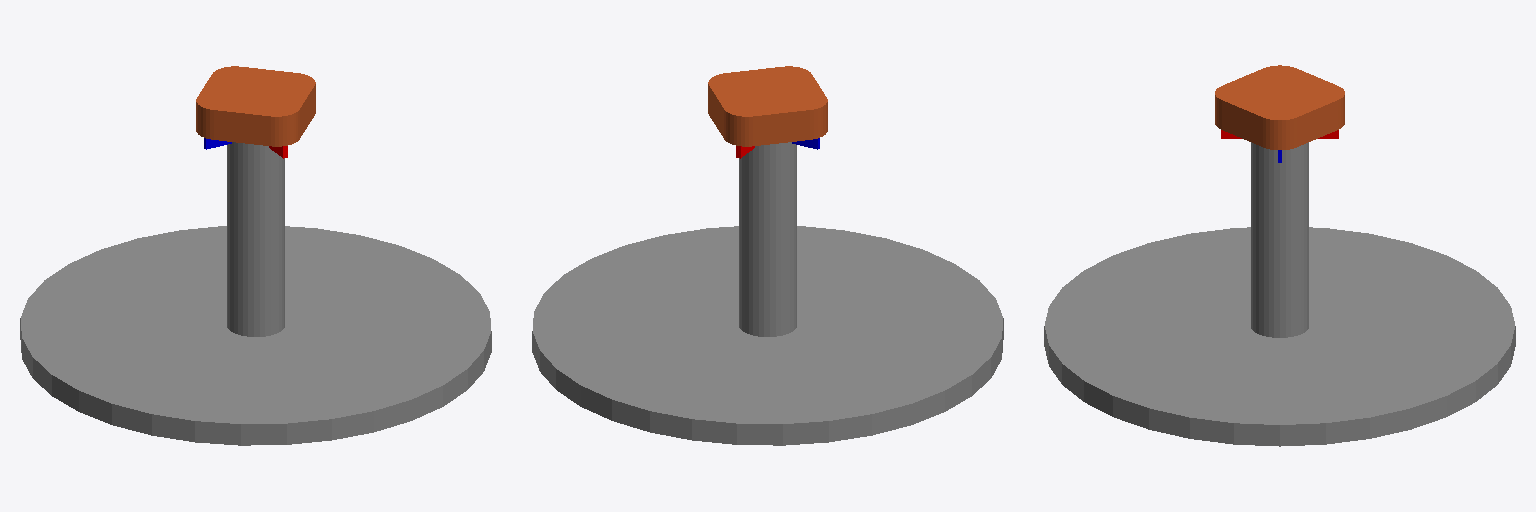
robot.urdf — screw_with_box_nut:
<?xml version="1.0"?>
<robot name="screw_with_box_nut">
  <!-- Base: Wide cylinder with hole -->
  <link name="base">
    <visual>
      <origin xyz="0 0 0" />
      <geometry>
        <cylinder radius="0.1" length="0.01" />
      </geometry>
      <material name="base_material">
        <color rgba="0.6 0.6 0.6 1" />
      </material>
    </visual>
    <collision>
      <origin xyz="0 0 0" />
      <geometry>
        <cylinder radius="0.1" length="0.01" />
      </geometry>
    </collision>
    <inertial>
      <mass value="10.0" />
      <origin xyz="0 0 0" />
      <inertia ixx="0.02508" ixy="0.0" ixz="0.0" iyy="0.02508" iyz="0.0" izz="0.05" />
    </inertial>
  </link>

  <!-- Bolt rigidly attached to base -->
  <link name="bolt">
    <visual>
      <origin xyz="0 0 0.05" />
      <geometry>
        <cylinder radius="0.0125" length="0.1" />
      </geometry>
      <material name="bolt_material">
        <color rgba="0.6 0.6 0.6 1" />
      </material>
    </visual>
    <collision>
      <origin xyz="0 0 0.05" />
      <geometry>
        <cylinder radius="0.0125" length="0.1" />
      </geometry>
    </collision>
    <inertial>
      <mass value="0.05" />
      <origin xyz="0 0 0.05" />
      <inertia ixx="0.0000420" ixy="0.0" ixz="0.0" iyy="0.0000420" iyz="0.0" izz="0.000000625" />
    </inertial>
  </link>

  <!-- Nut: a box that will rotate around the screw -->
  <link name="nut">
    <visual>
      <origin xyz="0 0 0"/>
      <geometry>
        <mesh filename="../meshes/box.stl"/>
      </geometry>
      <material name="nut_material">
        <color rgba="0.8 0.4 0.2 1"/>
      </material>
    </visual>
    <collision>
      <origin xyz="0 0 0"/>
      <geometry>
        <mesh filename="../meshes/box.stl"/>
      </geometry>
    </collision>
    <inertial>
      <mass value="0.05"/>
      <origin xyz="0 0 0"/>
      <inertia ixx="0.000004727" iyy="0.000004727" izz="0.000006453" ixy="0" ixz="0" iyz="0"/>
    </inertial>
    <!-- Red stripe on nut -->
    <visual>
      <origin xyz="0 0 0" rpy="0 0 0"/>
      <geometry>
        <!-- thin box wrapping around the cylinder -->
        <box size="0.002 0.05 0.014"/>
      </geometry>
      <material name="stripe_red">
        <color rgba="1 0 0 1"/>
      </material>
    </visual>

    <!-- Blue stripe on nut -->
    <visual>
      <origin xyz="0 0 0" rpy="0 0 1.5708"/>
      <geometry>
        <box size="0.002 0.05 0.014"/>
      </geometry>
      <material name="stripe_blue">
        <color rgba="0 0 1 1"/>
      </material>
    </visual>
  </link>

  <!-- Fixed joint -->
  <joint name="base_screw_fixed" type="fixed">
    <parent link="base" />
    <child  link="bolt" />
    <origin xyz="0 0 0" rpy="0 0 0" />
  </joint>

  <!-- Revolute joint -->
  <joint name="nut_joint" type="revolute">
    <parent link="bolt" />
    <child  link="nut" />
    <origin xyz="0 0 0.1" rpy="0 0 0"/>
    <axis  xyz="0 0 -1" />
    <dynamics friction="0.2"/>
    <limit lower="0.0" upper="628.3185" effort="2.0" velocity="6.2832" /> <!-- 100 rotations -->
  </joint>
</robot> 

--- Facts derived from the render (not from the file) ---
3 views of the same robot in one strip: view 1: azimuth 30°, elevation 25°; view 2: azimuth 150°, elevation 25°; view 3: azimuth 270°, elevation 25° (orthographic).
Robot: screw_with_box_nut — 3 links, 2 joints (1 revolute, 1 fixed); root link base; default pose: every joint at zero.
Visible links, largest first — view 1: base, bolt, nut; view 2: base, bolt, nut; view 3: base, bolt, nut.
Boxes of the visible links, box(x1,y1,x2,y2) form: base: box(20, 226, 491, 445); bolt: box(227, 142, 284, 336); nut: box(196, 66, 315, 158); base: box(532, 226, 1003, 445); bolt: box(739, 142, 796, 336); nut: box(708, 66, 827, 158); base: box(1044, 227, 1515, 446); bolt: box(1251, 142, 1308, 337); nut: box(1215, 65, 1344, 162).
Bounding box of the posed robot: 0.2 × 0.2 × 0.119 m (x, y, z).
1 mesh visuals loaded from 1 distinct referenced files (1 binary STL).